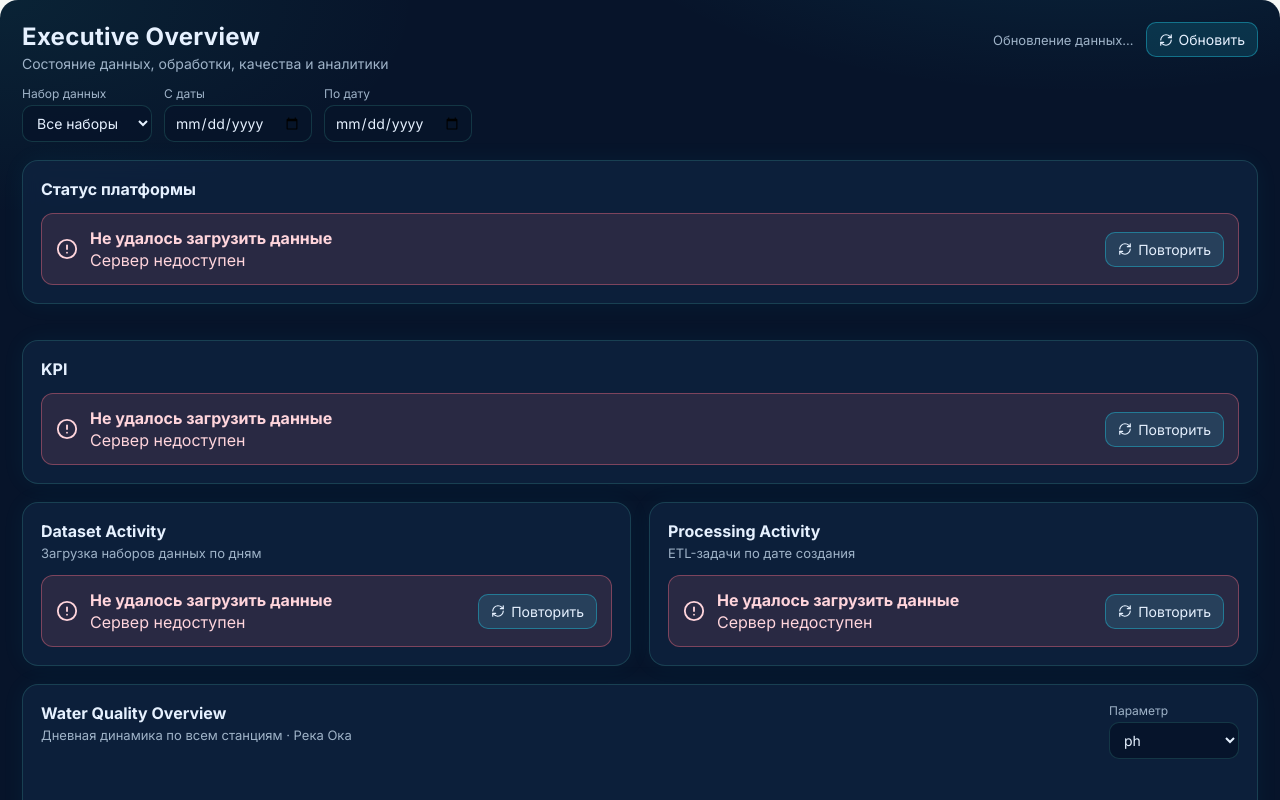
Test case: OverviewDashboard › shows an error with retry and recovers
Expected: the message "Не удалось загрузить данные Сервер недоступен Повторить" below "Статус платформы" is shown, [90,250,245,270]
Click the 1st button "Повторить" at (1165, 249), box [1105,232,1224,266]
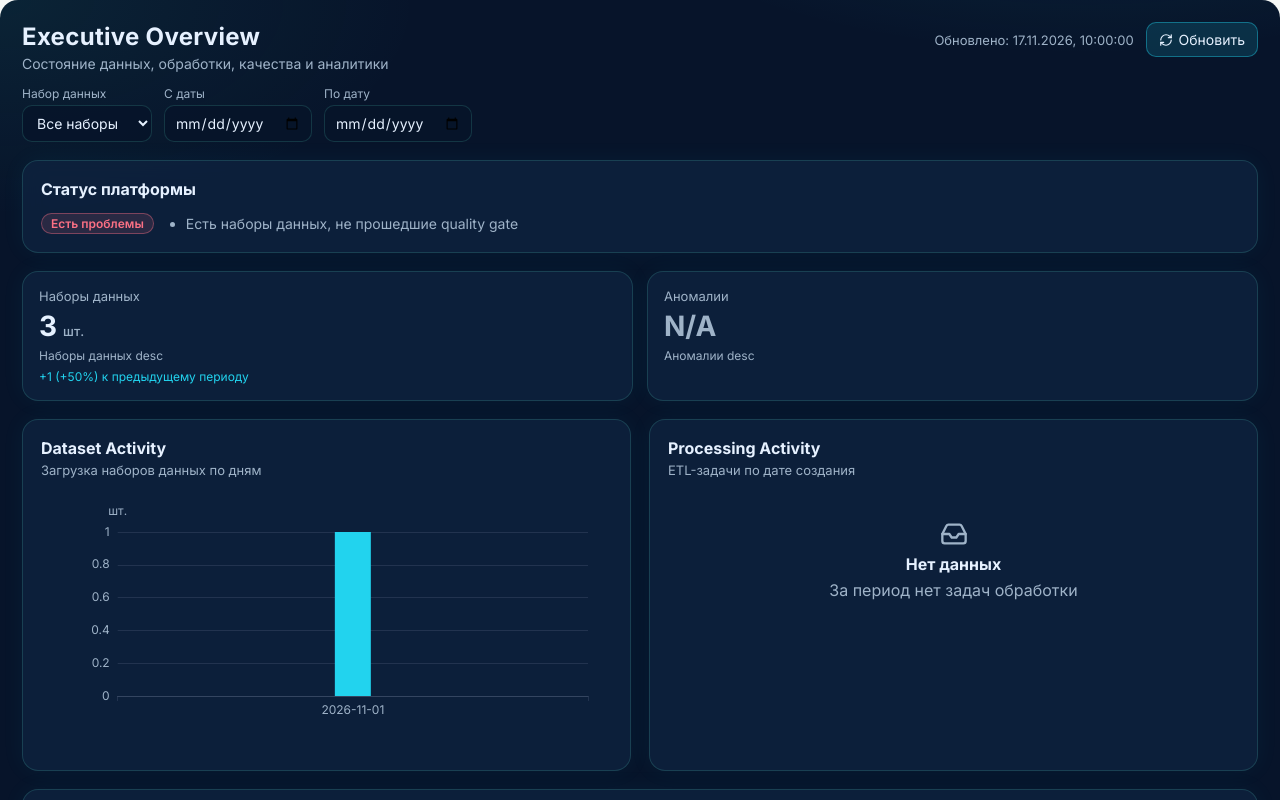
Expected: the text "Аномалии" is shown, [664,288,729,304]
